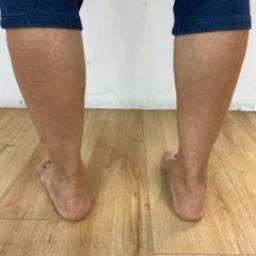Back View -Both Feet-: (24, 128, 230, 231)
